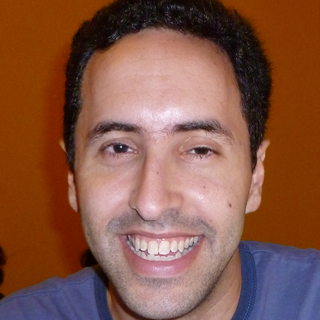eye: (177, 140, 225, 164), (96, 138, 142, 162)
